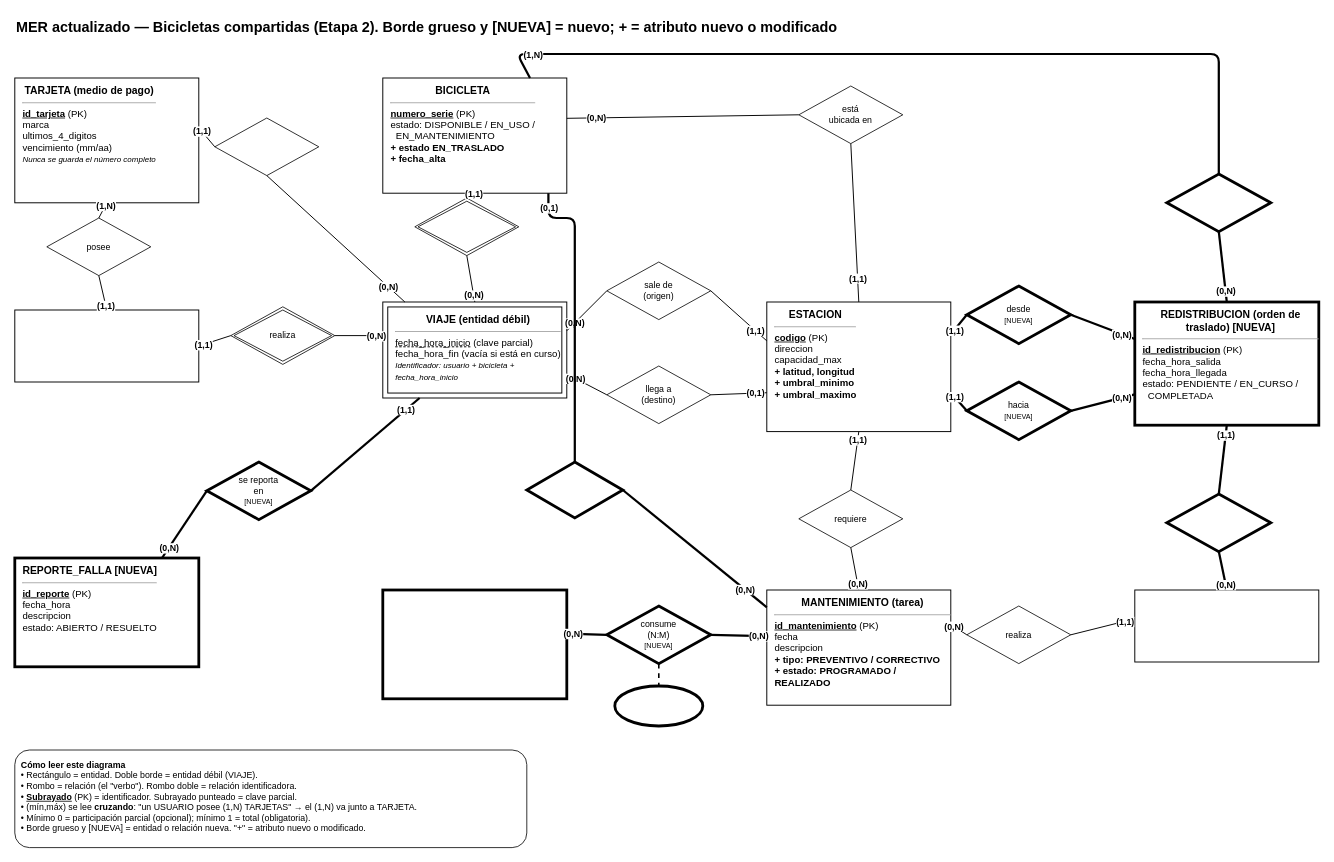
Some shapes in this 1334 by 862 pixel diagram are drawn without their labels. Each missing label, with the centre of its shape:
atributo de la relación: cantidad: point (658, 705)
ejecuta [NUEVA]: point (1218, 522)
OPERARIO TÉCNICO legajo (PK) nombre: point (1226, 625)
REPUESTO [NUEVA] codigo_repuesto (PK) descripcion stock_actual stock_minimo: point (474, 644)
se aplica a [NUEVA]: point (574, 489)
se paga con: point (266, 146)
se usa en: point (466, 226)
traslada (N:M) [NUEVA]: point (1218, 202)
USUARIO dni (PK) nombre: point (106, 345)
